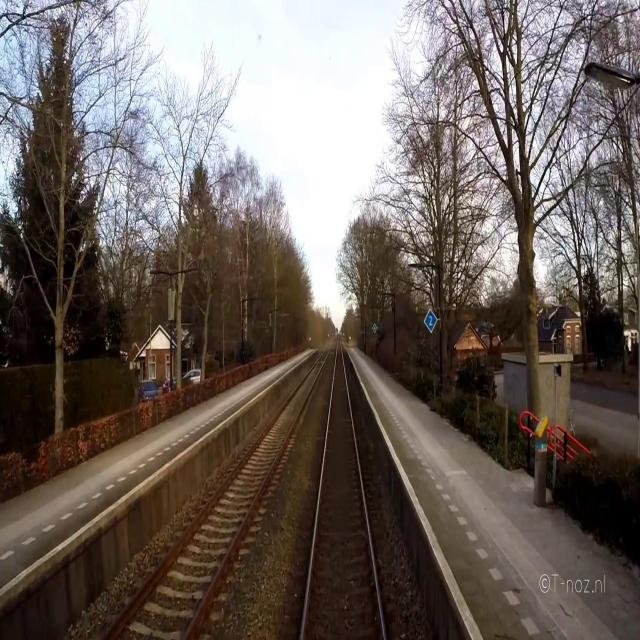rail-track: (105, 354, 325, 639), (304, 344, 382, 639)
